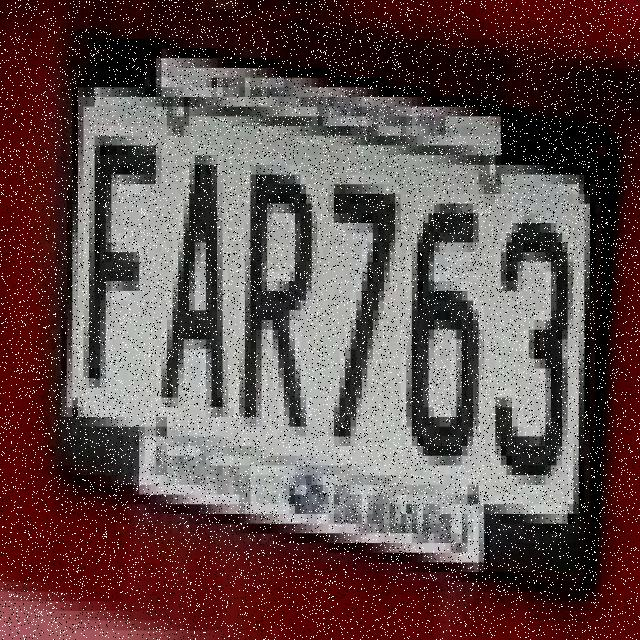licenseplate: (53, 14, 613, 611)
